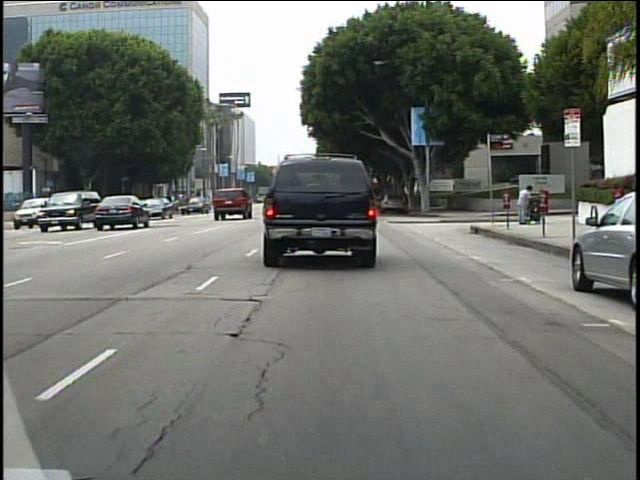person: (514, 180, 535, 230)
